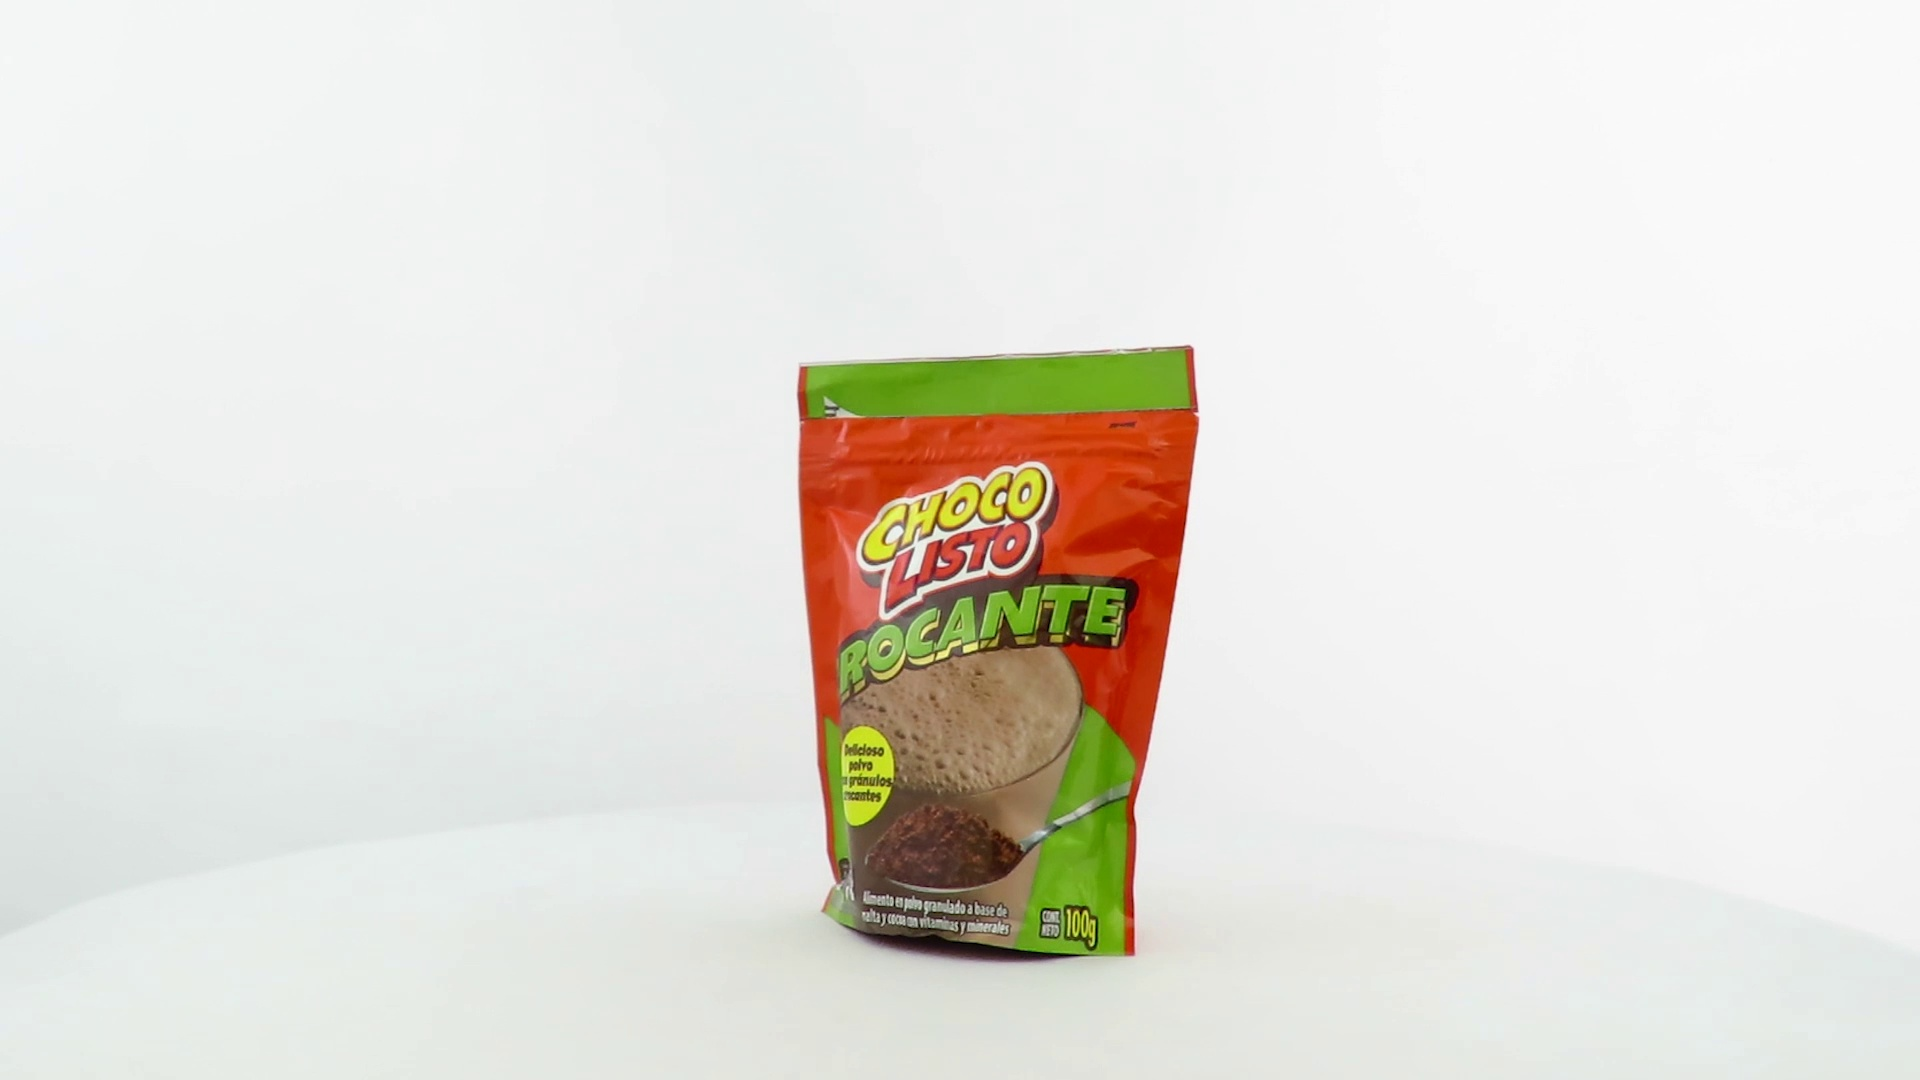COL0170102DYP10000: (793, 340, 1205, 969)
